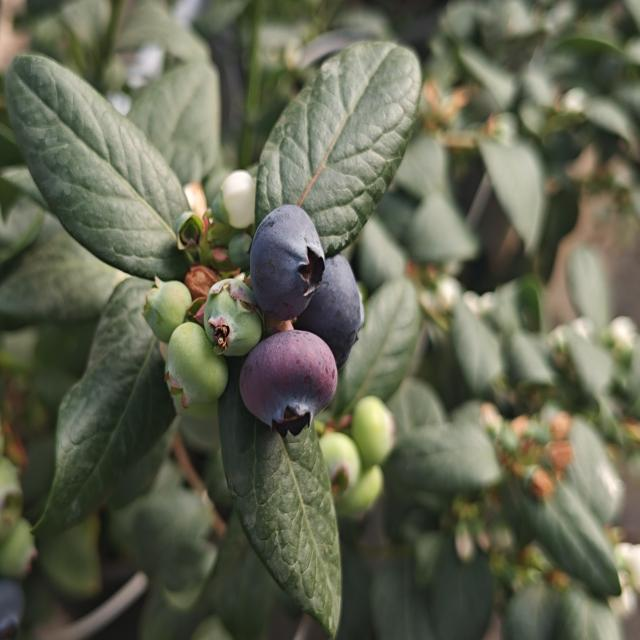ripe: (237, 328, 340, 438), (247, 202, 328, 325), (316, 251, 363, 346)
